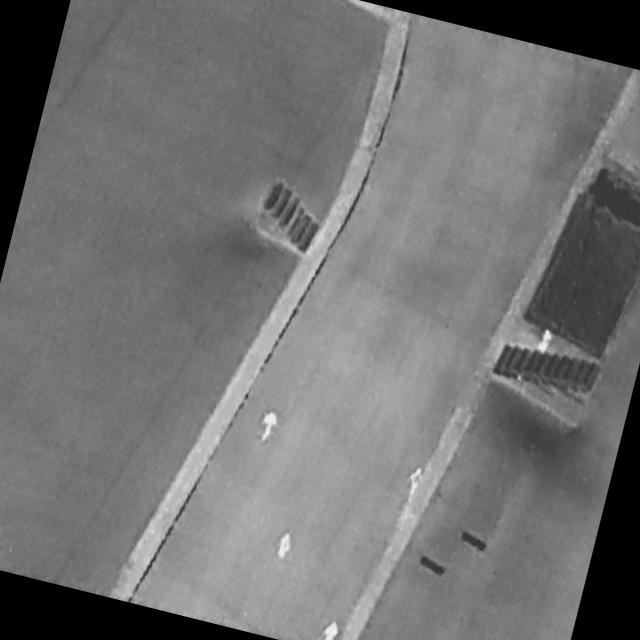person: (256, 407, 282, 447), (402, 464, 426, 507), (273, 529, 297, 565), (533, 325, 556, 358), (318, 616, 344, 640)
